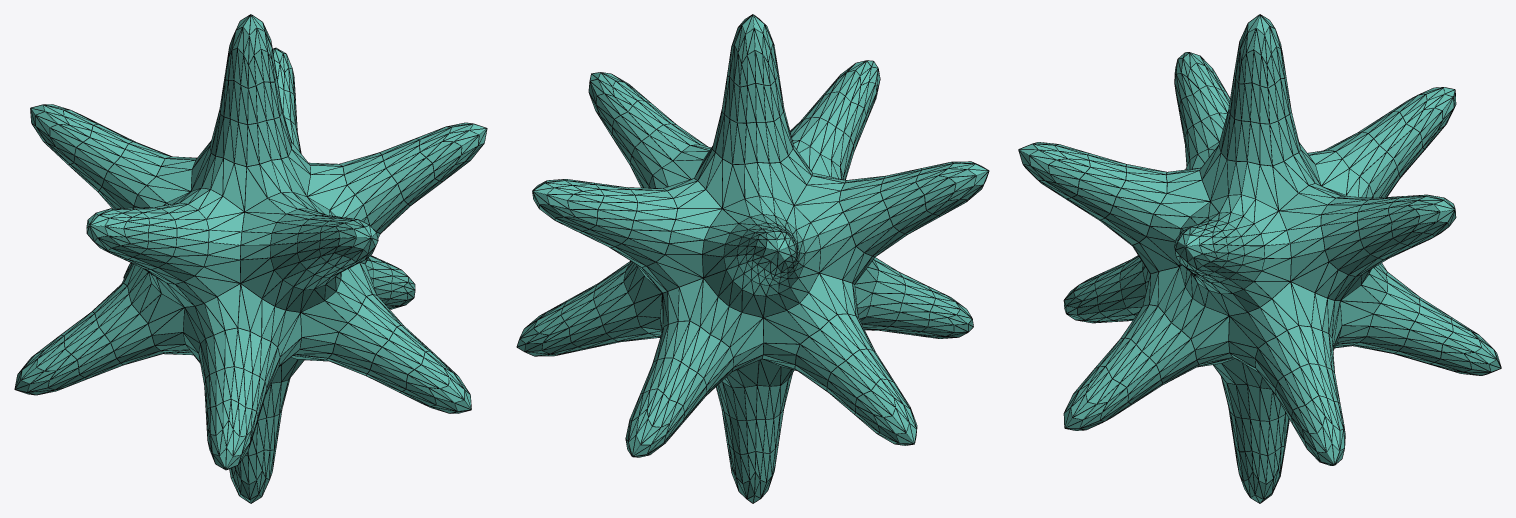
Rendered from web3.glb.
The picture shows the model from 3 angles, left to right: view 1: azimuth 30°, elevation 25°; view 2: azimuth 150°, elevation 25°; view 3: azimuth 270°, elevation 25°; orthographic projection.
Visible parts, largest first — view 1: web3; view 2: web3; view 3: web3.
Boxes of the visible parts, x1,y1,x2,y2 form: web3: (14,14,487,503); web3: (516,14,989,503); web3: (1018,14,1501,503).
Bounding box in the file's own units: 5.11 × 6.01 × 5.37.
